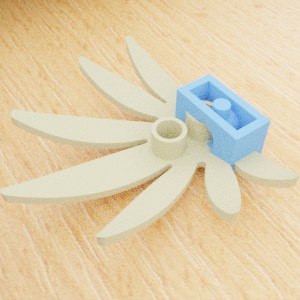lego: (0, 34, 300, 246), (174, 73, 270, 176)
